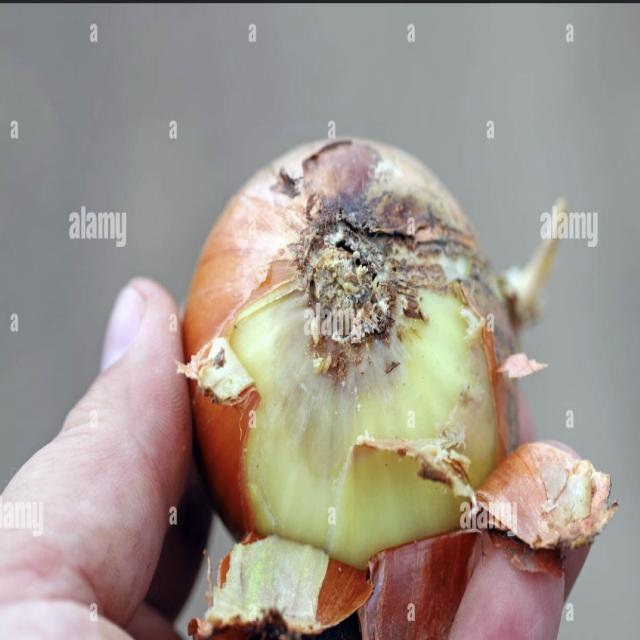mechanical_damage: (214, 233, 262, 256)
